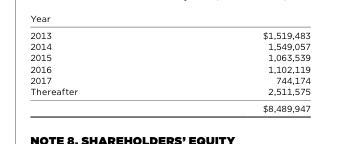table: (29, 28, 309, 113)
table column: (29, 28, 169, 113), (169, 28, 309, 113)
table row: (29, 85, 309, 99), (29, 99, 309, 113), (29, 39, 309, 51), (29, 62, 309, 74), (29, 28, 309, 39), (29, 51, 309, 62), (29, 74, 309, 85)
